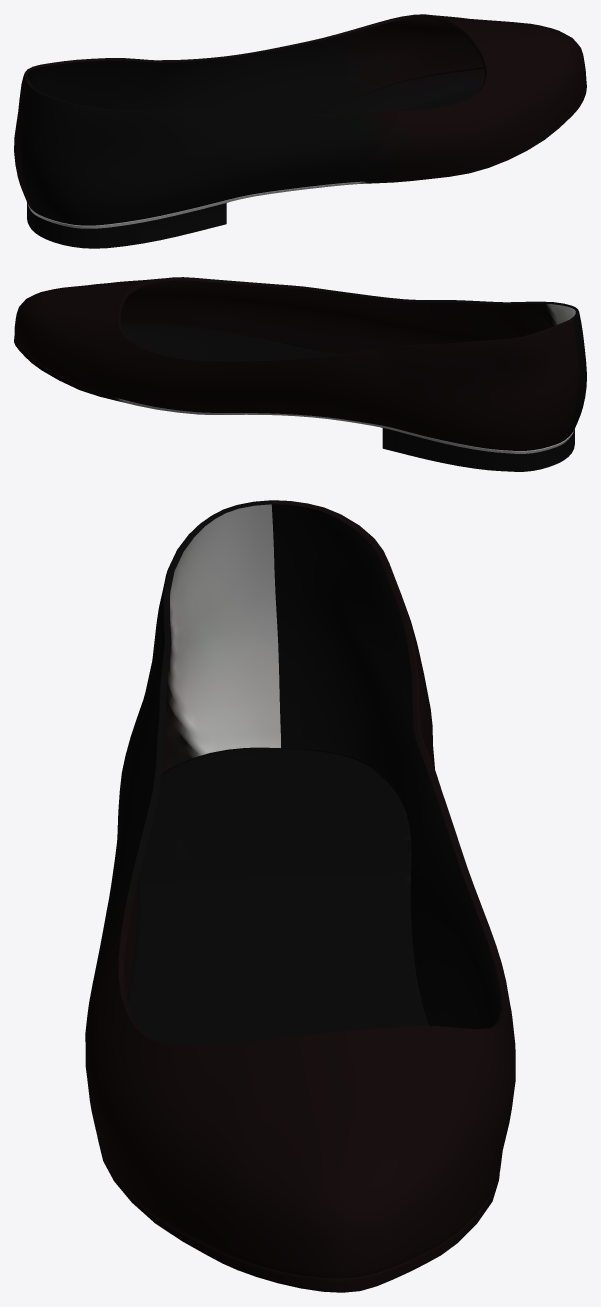
Rendered from ballet-flat.glb.
The picture shows the model from 3 angles, top to bottom: view 1: azimuth 30°, elevation 25°; view 2: azimuth 150°, elevation 25°; view 3: azimuth 270°, elevation 25°; orthographic projection. The views are drawn at different scales.
Visible parts, largest first — view 1: ballerina_shoes_right; view 2: ballerina_shoes_right; view 3: ballerina_shoes_right.
Part boxes in pixels (x1,y1,x2,y2): ballerina_shoes_right: [14, 14, 586, 248]; ballerina_shoes_right: [14, 277, 586, 471]; ballerina_shoes_right: [85, 500, 515, 1292].
Bounding box in the file's own units: 0.25 × 0.0617 × 0.0856.
1 material, 1 textured.
